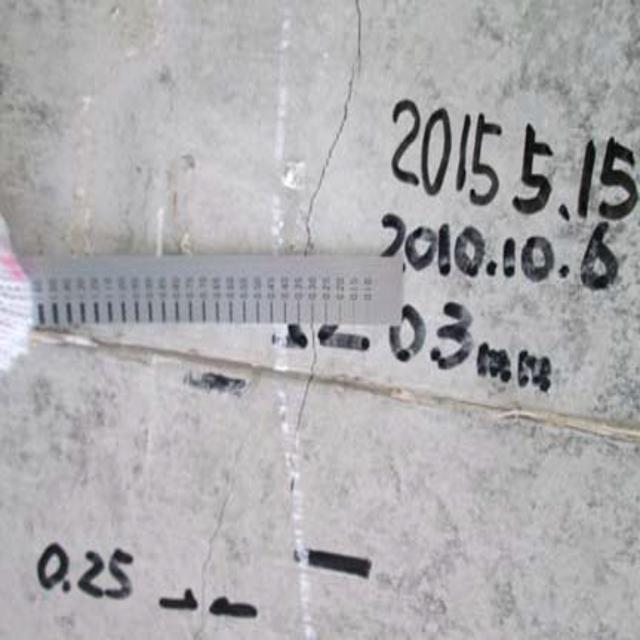crack: (304, 3, 372, 244), (300, 327, 329, 442)
